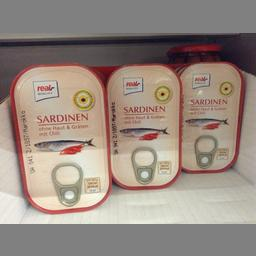fish: (9, 63, 110, 214), (106, 62, 180, 188), (176, 60, 243, 172)
